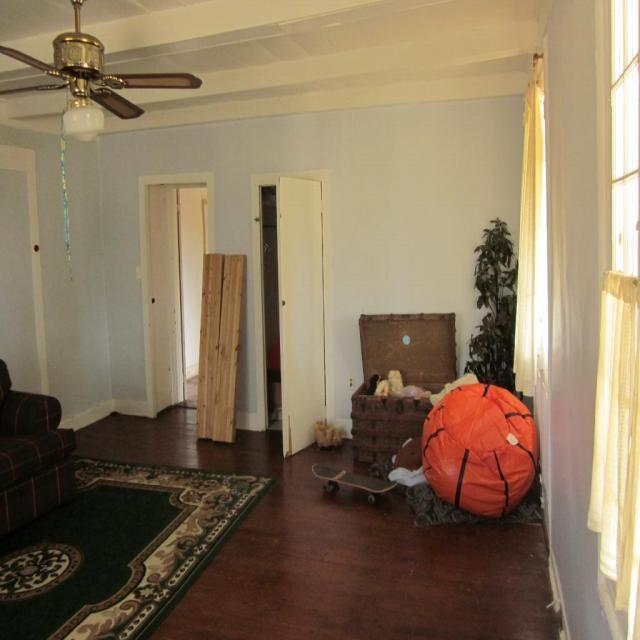fan_off: (1, 0, 205, 120)
